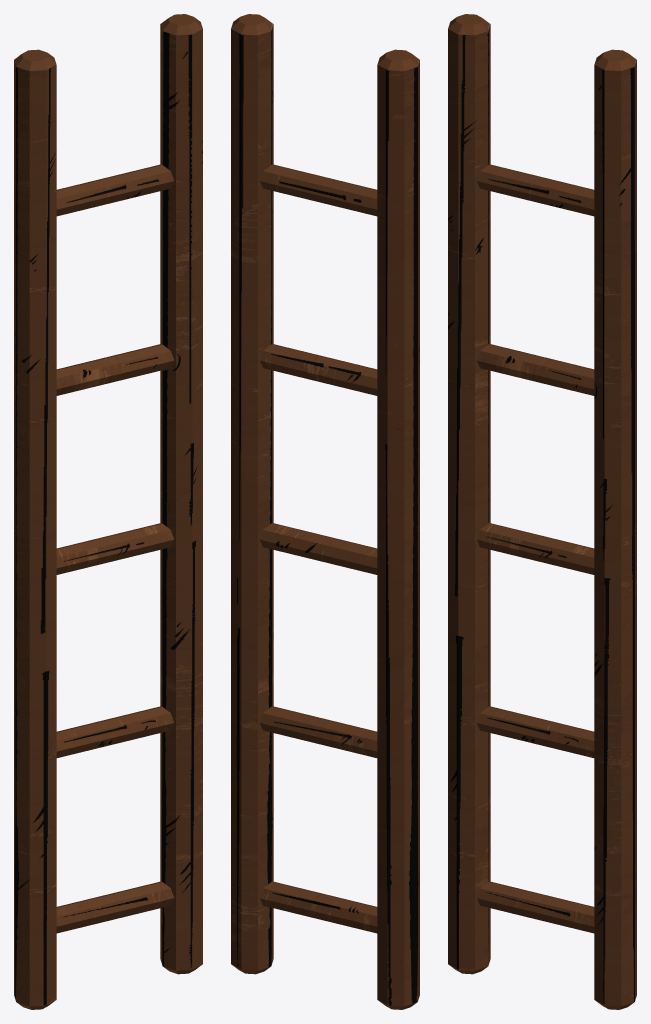
The model's file is Ladder.glb.
The picture shows the model from 3 angles, left to right: view 1: azimuth 30°, elevation 25°; view 2: azimuth 150°, elevation 25°; view 3: azimuth 330°, elevation 25°; orthographic projection.
Parts seen in each view (by area): view 1: Ladder; view 2: Ladder; view 3: Ladder.
Boxes of the visible parts, left/top/right/bottom form: Ladder: left=14, top=14, right=202, bottom=1009; Ladder: left=231, top=14, right=419, bottom=1009; Ladder: left=448, top=14, right=636, bottom=1009.
Bounding box in the file's own units: 1.46 × 7.16 × 0.3005.
1 material, 1 textured.
